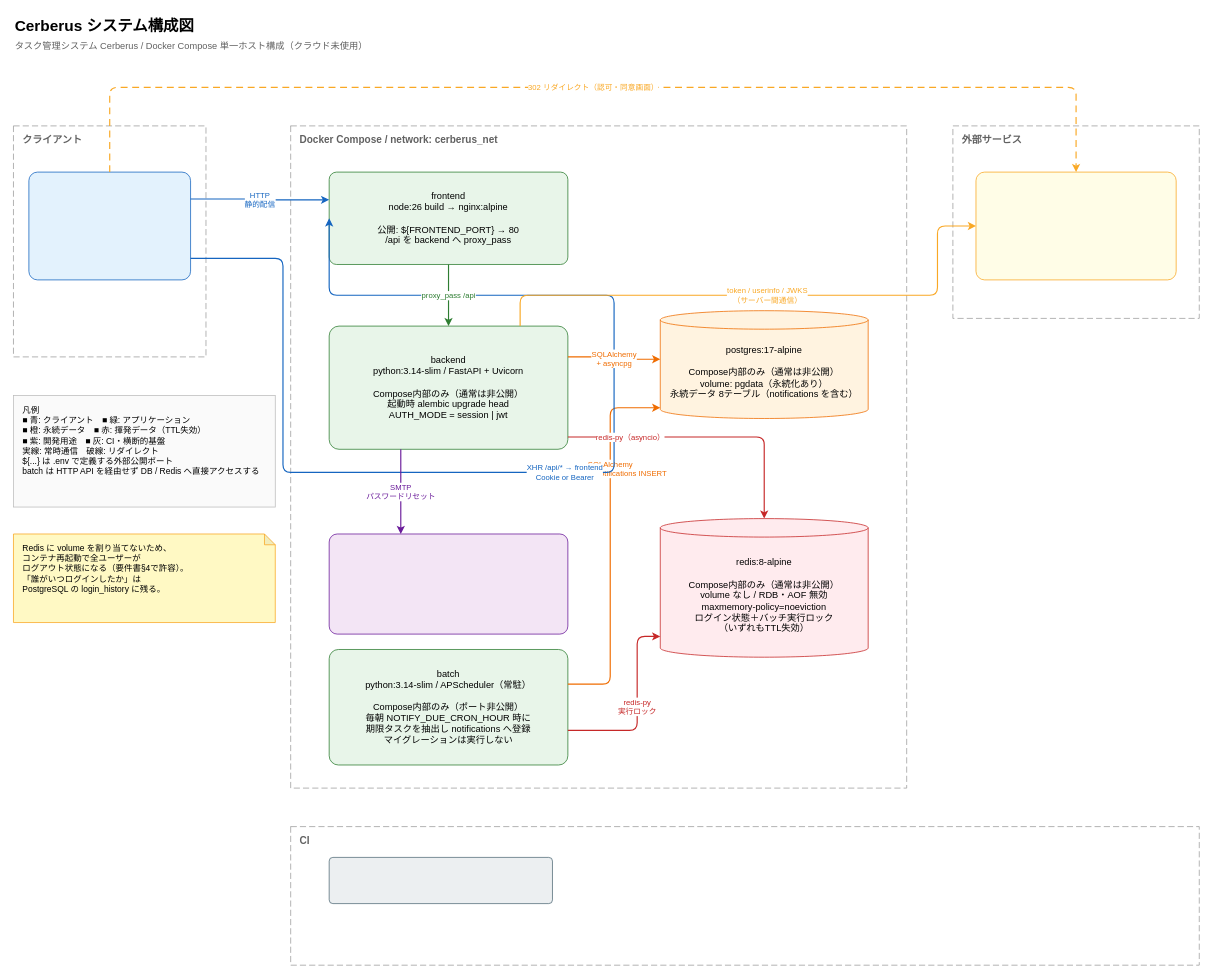
Image size: 1213x979. Some labels were removed from this diagram. Each missing label, with the centre of its shape:
"GitHub Actions ci.yml（Lint/型/テスト/build）" belongs at point 440,880.
"Google OAuth2 認可サーバー Authorization Code + PKCE scope: openid email profile" belongs at point 1075,225.
"mailpit（dev profile専用） SMTP/UI: loopbackのみ公開可 productionは外部SMTP 外部へは送信しない" belongs at point 448,583.
"ブラウザ （React SPA） session: Cookie 保持 jwt: access token をメモリ保持" belongs at point 109,225.
